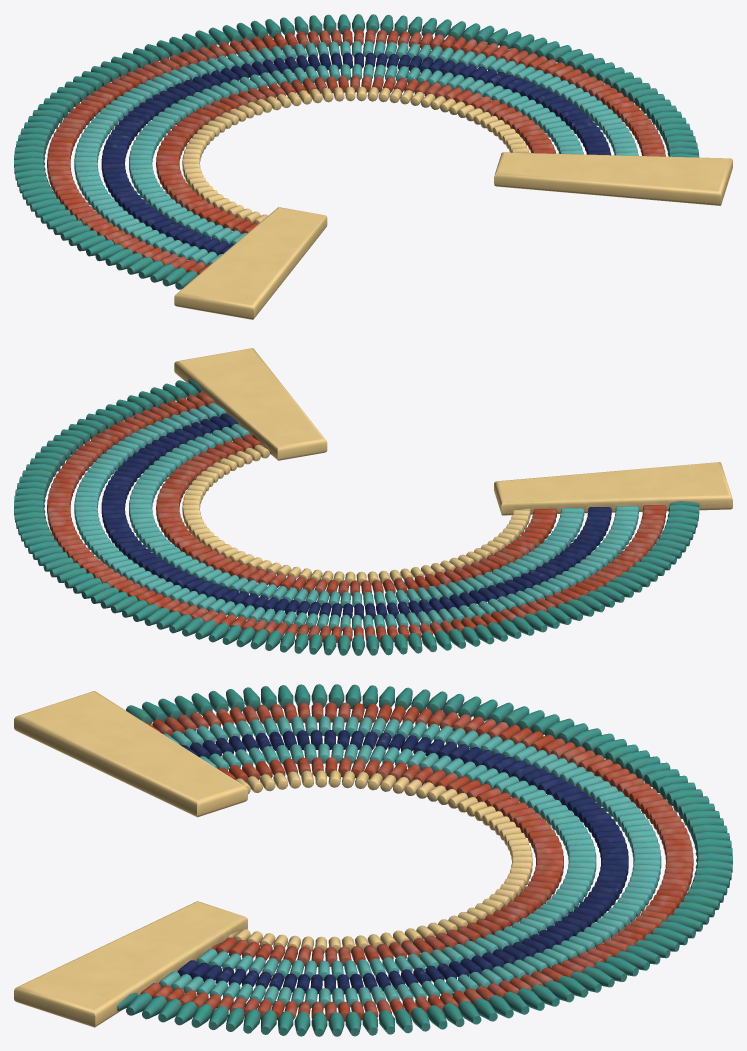
File: usekh_collar.glb
3 views of the same model, one above another, from view 1: azimuth 30°, elevation 25°; view 2: azimuth 150°, elevation 25°; view 3: azimuth 270°, elevation 25° (orthographic). The views are drawn at different scales.
Parts seen in each view (by area): view 1: usekh_collar; view 2: usekh_collar; view 3: usekh_collar.
Part boxes in pixels (box(x1,y1,x2,y2)): usekh_collar: box(14, 14, 732, 319); usekh_collar: box(14, 348, 732, 655); usekh_collar: box(14, 684, 732, 1036).
Size of the model in its own units: 0.352 by 0.00814 by 0.3106.
Materials: 1 (1 with a texture image).
